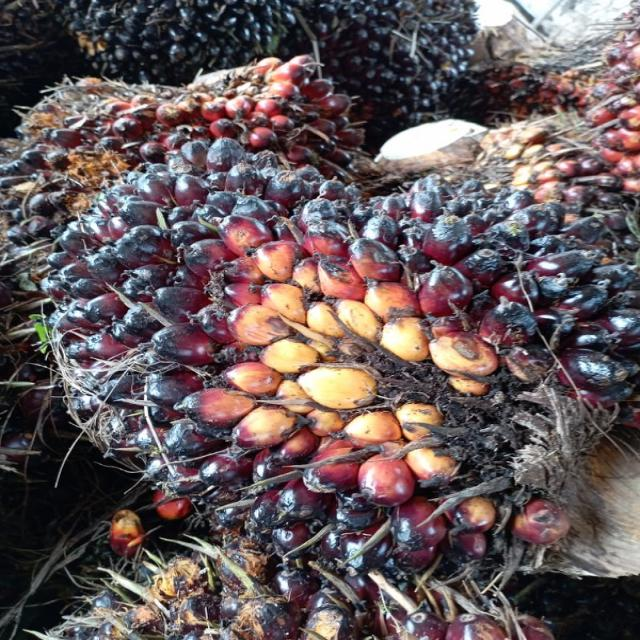fraksi 00: (40, 135, 626, 553)
